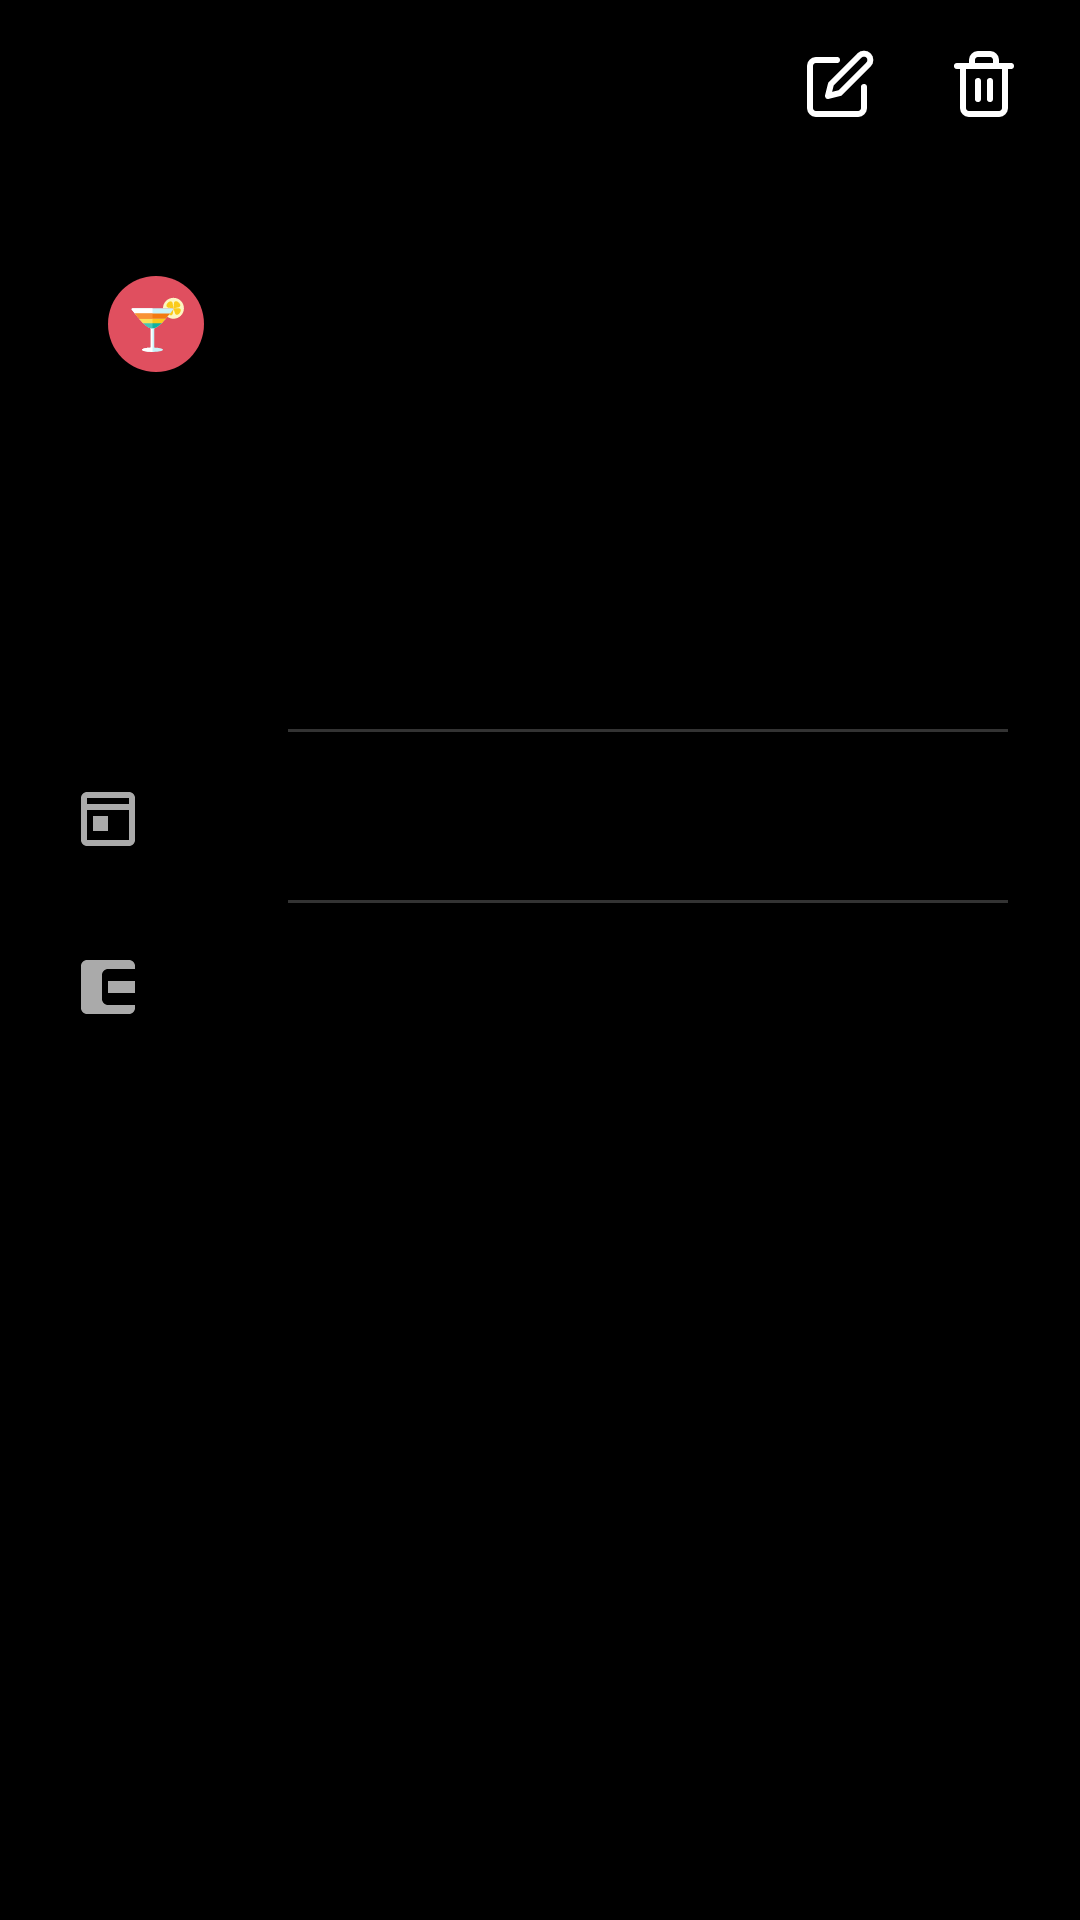

Screen size 1080x1920. Icon name, then its center in pixels as [x,y]:
Delete: [984,84]
Edit: [840,83]
